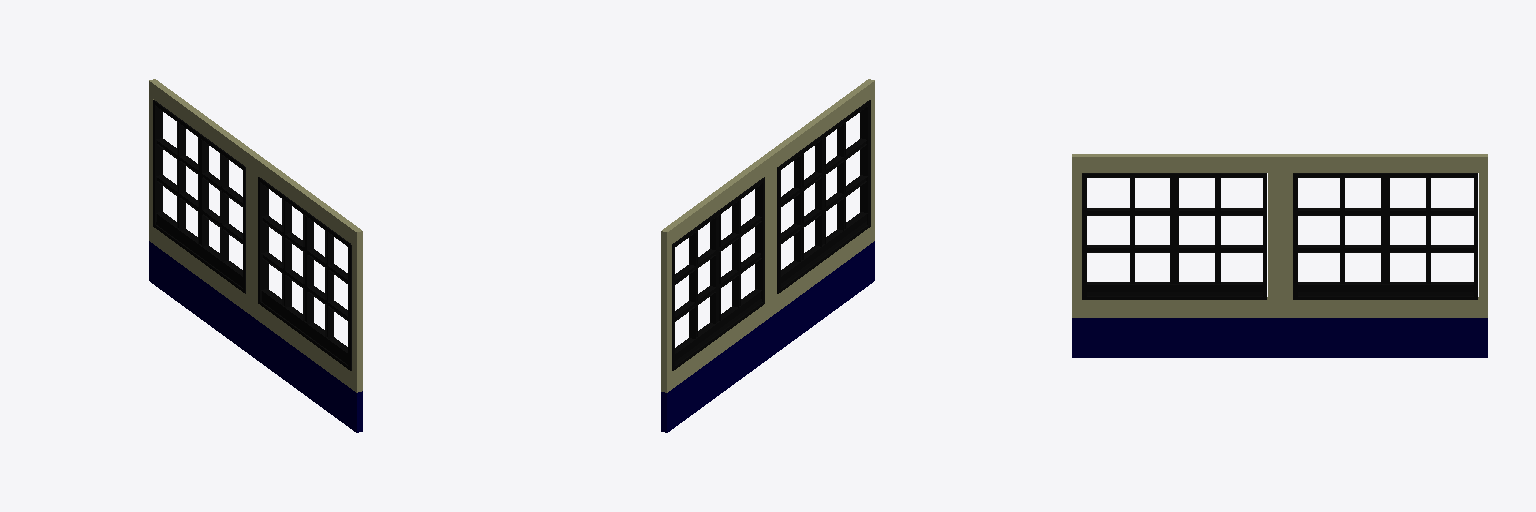
The model's file is wall_window.obj.
3 views of the same model, side by side, from view 1: azimuth 30°, elevation 25°; view 2: azimuth 150°, elevation 25°; view 3: azimuth 270°, elevation 25° (orthographic).
Visible parts, largest first — view 1: window_Cube, wall_Cube.001, Cube.001_Cube.003; view 2: window_Cube, wall_Cube.001, Cube.001_Cube.003; view 3: wall_Cube.001, window_Cube, Cube.001_Cube.003.
Part boxes in pixels (x1,y1,x2,y2): window_Cube: (153, 100, 351, 370); wall_Cube.001: (149, 79, 362, 392); Cube.001_Cube.003: (149, 241, 362, 432); window_Cube: (672, 100, 870, 370); wall_Cube.001: (661, 79, 874, 392); Cube.001_Cube.003: (661, 241, 874, 432); wall_Cube.001: (1072, 154, 1487, 317); window_Cube: (1082, 173, 1477, 299); Cube.001_Cube.003: (1072, 318, 1487, 357).
Bounding box in the file's own units: 0.2531 × 5.98 × 11.25.